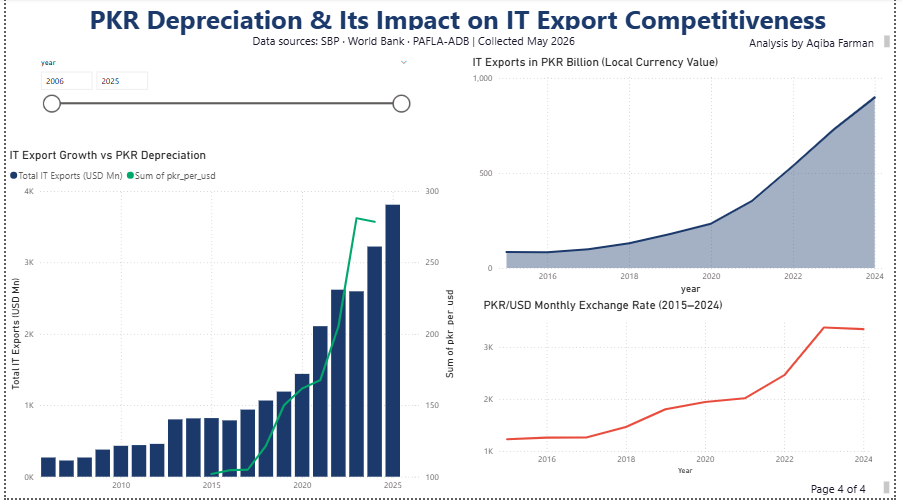

This screenshot's page, from the dashboard's own definition file:
{"tool":"powerbi","page":{"name":"FX & Macro Impact","canvas":[1280,720],"ordinal":3},"visuals":[{"type":"textbox","box":[80.1,0,1139.8,70.9],"z":0},{"type":"lineChart","title":"PKR/USD Monthly Exchange Rate (2015–2024)","fields":{"Category":["FXMonthly.date.Variation.Date Hierarchy.Year","FXMonthly.date.Variation.Date Hierarchy.Quarter","FXMonthly.date.Variation.Date Hierarchy.Month","FXMonthly.date.Variation.Date Hierarchy.Day"],"Y":["Sum(FXMonthly.pkr_per_usd)"]},"box":[682.6,432,570.2,259.2],"z":1000},{"type":"lineClusteredColumnComboChart","title":"IT Export Growth vs PKR Depreciation","fields":{"Category":["FactITExports.year"],"Y":["FactITExports.Total IT Exports (USD Mn)"],"Y2":["Sum(FactITExports.pkr_per_usd)"]},"box":[0,215.6,650,503.7],"z":2000},{"type":"areaChart","title":"IT Exports in PKR Billion (Local Currency Value)","fields":{"Category":["FactITExports.year"],"Y":["Sum(FactITExports.it_exports_pkr_bn)"]},"box":[667,81.6,602.3,349.7],"z":3000},{"type":"slicer","fields":{"Values":["FactITExports.year"]},"box":[37.4,82.1,553,100.8],"z":4000},{"type":"textbox","box":[1065.6,49,211.7,33.1],"z":4001},{"type":"textbox","box":[349.9,46.1,483.8,38.9],"z":4002},{"type":"textbox","box":[1129,691.2,148.3,28.8],"z":4003}]}

Visuals, with their boxes in screenshot pixels (x1, y1, x2, y2), scaled from the page's 1280x720 canvas onto the 902x500 screenshot:
textbox: <bbox>56, 0, 860, 49</bbox>
"PKR/USD Monthly Exchange Rate (2015–2024)" lineChart: <bbox>481, 300, 883, 480</bbox>
"IT Export Growth vs PKR Depreciation" lineClusteredColumnComboChart: <bbox>0, 150, 458, 499</bbox>
"IT Exports in PKR Billion (Local Currency Value)" areaChart: <bbox>470, 57, 894, 300</bbox>
slicer - FactITExports.year: <bbox>26, 57, 416, 127</bbox>
textbox: <bbox>751, 34, 900, 57</bbox>
textbox: <bbox>247, 32, 587, 59</bbox>
textbox: <bbox>796, 480, 900, 499</bbox>
